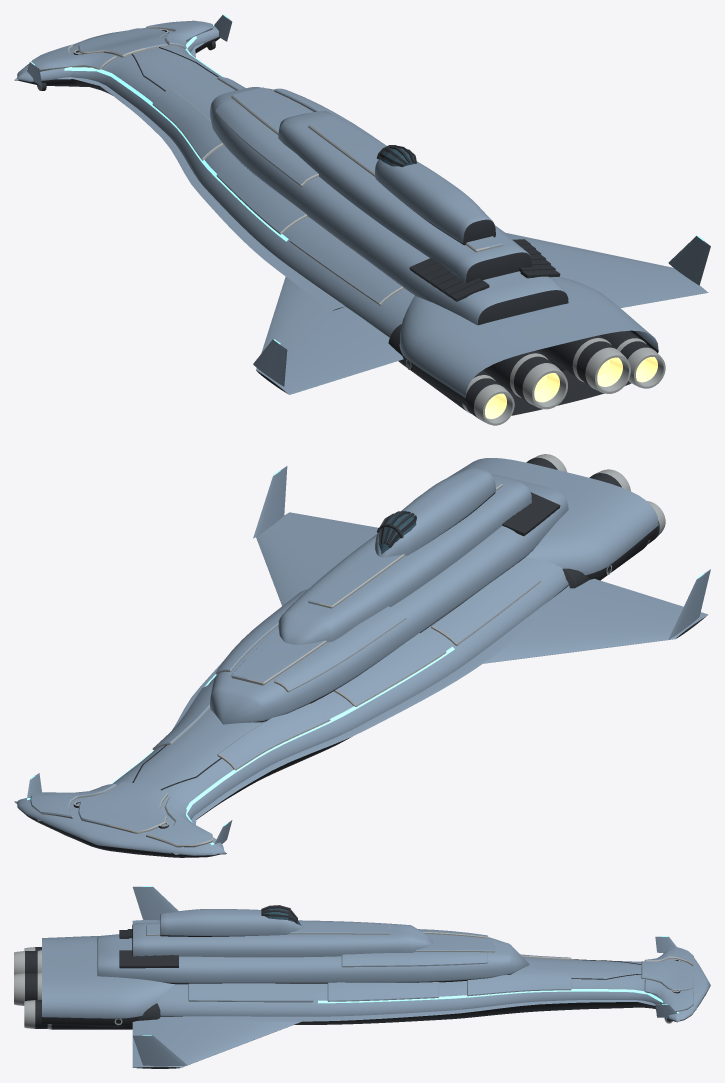
The model's file is albatross.glb.
3 views of the same model, one above another, from view 1: azimuth 30°, elevation 25°; view 2: azimuth 150°, elevation 25°; view 3: azimuth 270°, elevation 25° (orthographic). The views are drawn at different scales.
Parts seen in each view (by area): view 1: Hull_Albatross; view 2: Hull_Albatross; view 3: Hull_Albatross.
Boxes of the visible parts, box(x1,y1,x2,y2) form: Hull_Albatross: box(14, 14, 710, 425); Hull_Albatross: box(14, 454, 710, 857); Hull_Albatross: box(14, 886, 710, 1068).
Bounding box in the file's own units: 101 × 32.78 × 200.
